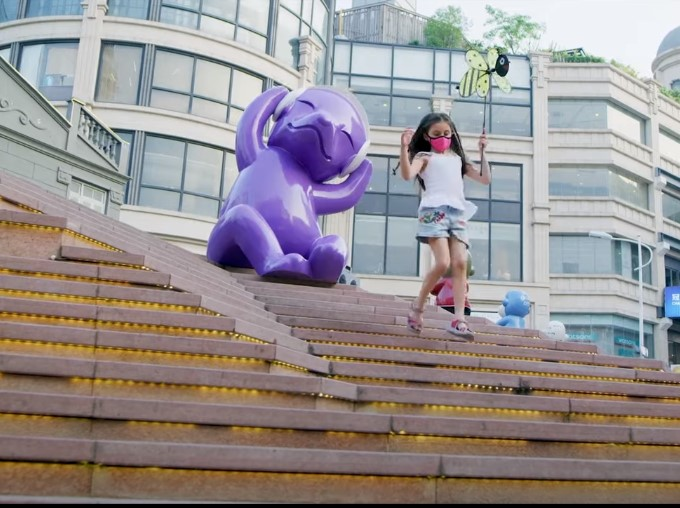face_with_mask: (421, 119, 455, 155)
